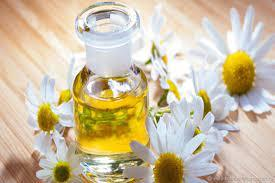chamomile: (195, 37, 272, 104), (143, 131, 198, 183), (24, 88, 55, 143), (37, 147, 81, 183)
